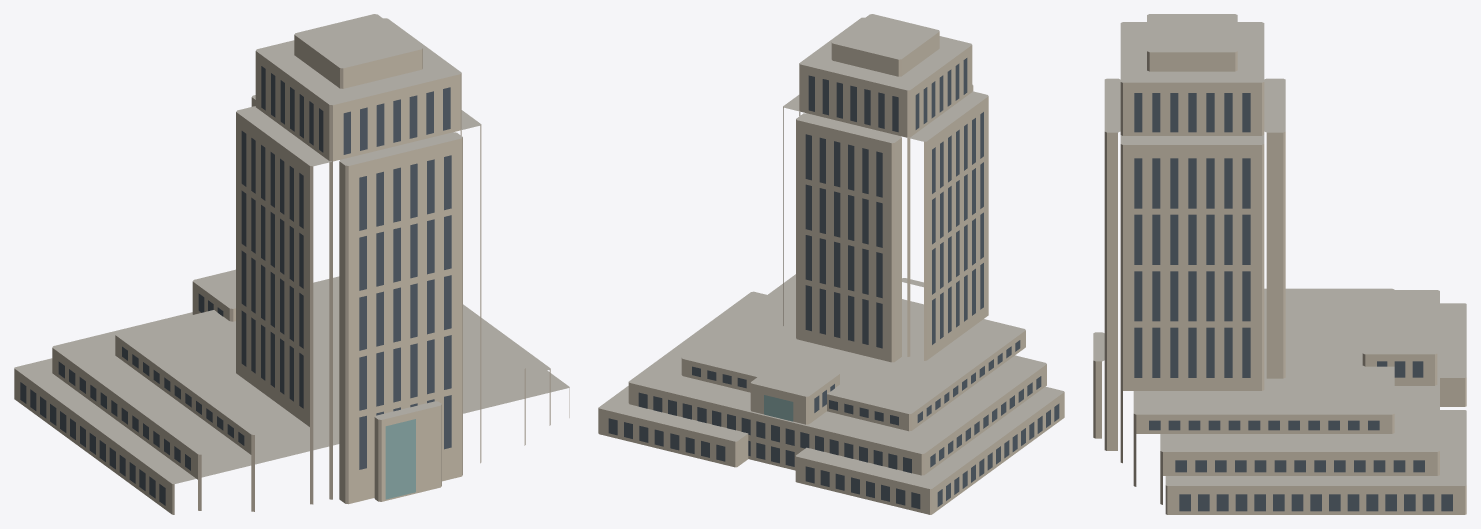
File: msp-saint-paul-city-hall.glb
3 views of the same model, side by side, from view 1: azimuth 30°, elevation 25°; view 2: azimuth 150°, elevation 25°; view 3: azimuth 270°, elevation 25° (orthographic). The views are drawn at different scales.
Parts seen in each view (by area): view 1: Saint Paul City Hall and Ramsey County Courthouse; view 2: Saint Paul City Hall and Ramsey County Courthouse; view 3: Saint Paul City Hall and Ramsey County Courthouse.
Boxes of the visible parts, bbox=[...] form: Saint Paul City Hall and Ramsey County Courthouse: bbox=[14, 14, 569, 514]; Saint Paul City Hall and Ramsey County Courthouse: bbox=[598, 14, 1064, 514]; Saint Paul City Hall and Ramsey County Courthouse: bbox=[1093, 14, 1466, 514].
Size of the model in its own units: 81.32 by 81 by 70.22.
